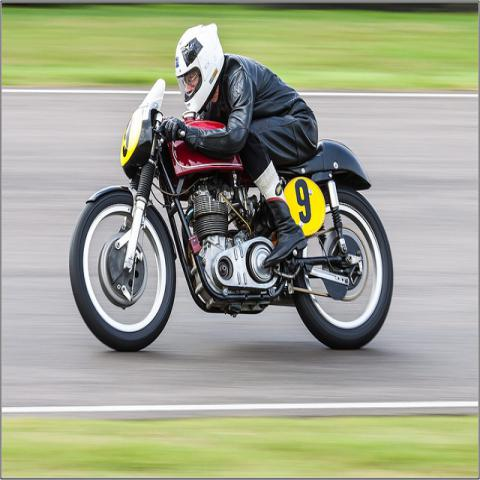motorcycle: (69, 77, 393, 354)
